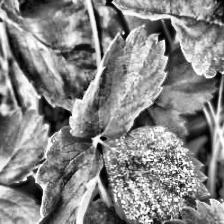Powdery Mildew Leaf: (68, 23, 169, 139), (102, 125, 212, 224), (110, 0, 224, 79)
